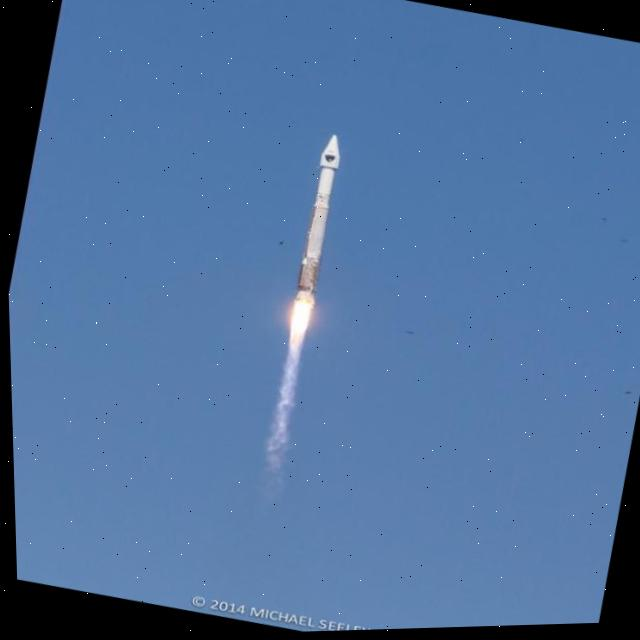missile: (273, 128, 366, 302)
